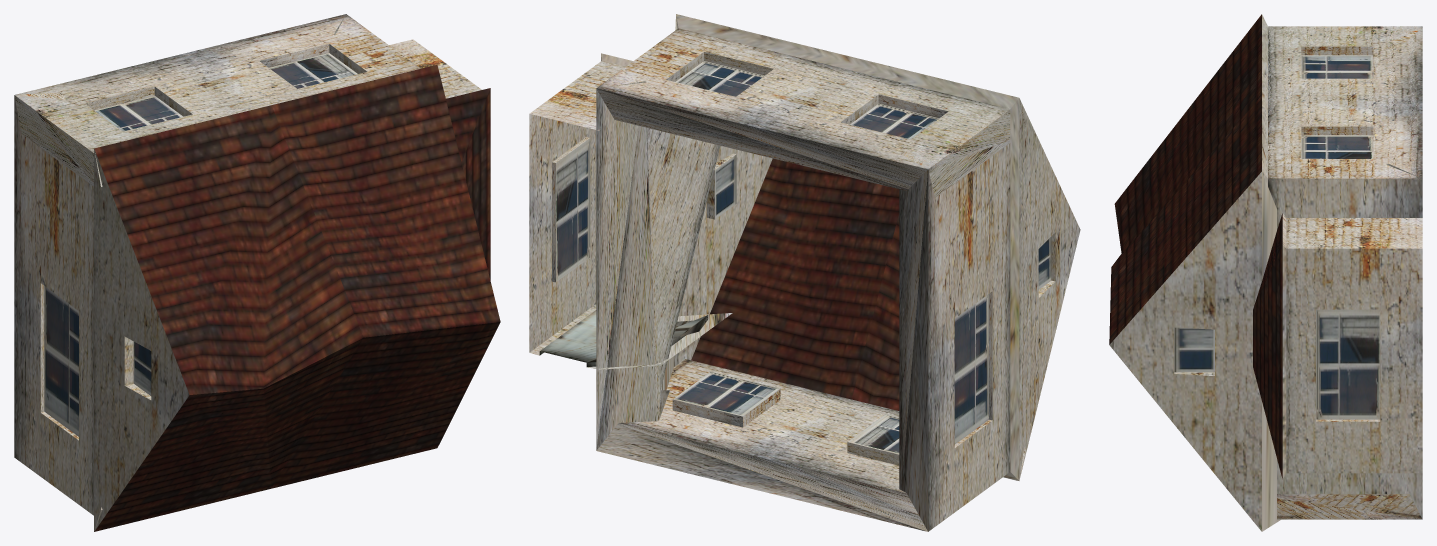
Rendered from domicile_wtf.obj.
3 renders of one model, left to right at view 1: azimuth 30°, elevation 25°; view 2: azimuth 150°, elevation 25°; view 3: azimuth 270°, elevation 25°, orthographic. The views are drawn at different scales.
Parts seen in each view (by area): view 1: group1; view 2: group1; view 3: group1.
Boxes of the visible parts, x1,y1,x2,y2 form: group1: (14, 14, 500, 531); group1: (529, 14, 1080, 531); group1: (1109, 14, 1422, 531).
Size of the model in its own units: 660 by 594 by 468.
